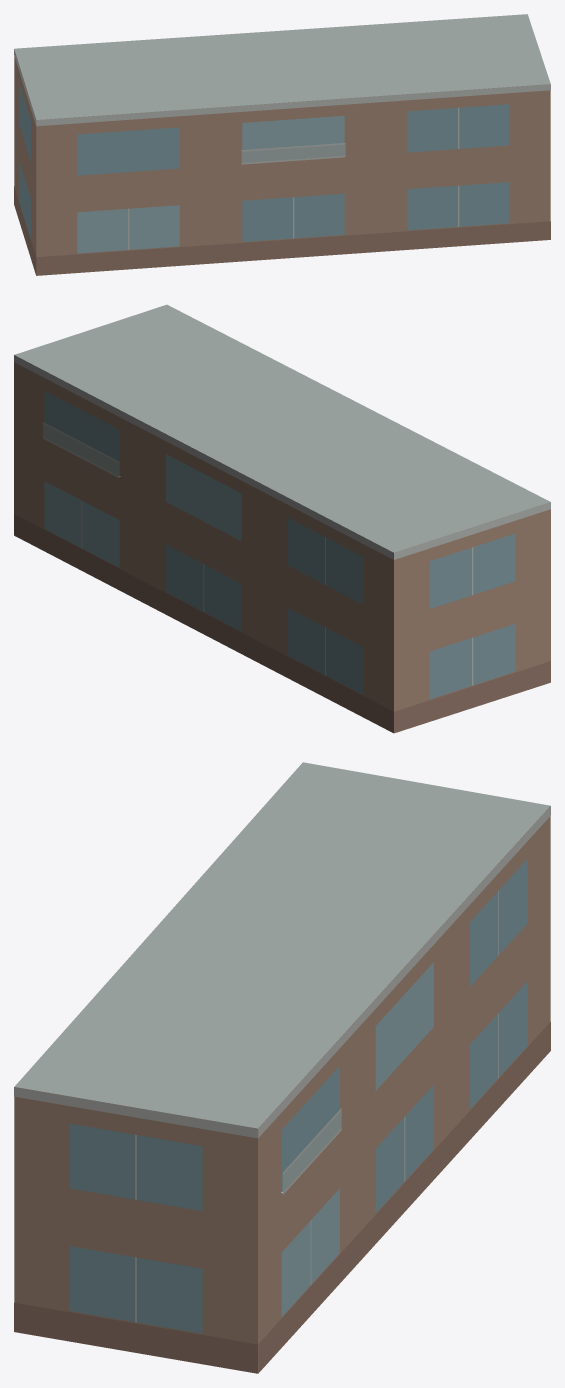
The model's file is survey-upis-32733353.glb.
3 renders of one model, top to bottom at view 1: azimuth 30°, elevation 25°; view 2: azimuth 150°, elevation 25°; view 3: azimuth 270°, elevation 25°, orthographic. The views are drawn at different scales.
Visible parts, largest first — view 1: survey-upis-32733353.tmp; view 2: survey-upis-32733353.tmp; view 3: survey-upis-32733353.tmp.
Part boxes in pixels (left/top/right/bottom): survey-upis-32733353.tmp: left=14, top=14, right=550, bottom=275; survey-upis-32733353.tmp: left=14, top=304, right=550, bottom=733; survey-upis-32733353.tmp: left=14, top=762, right=550, bottom=1373.
Bounding box in the file's own units: 19.57 × 6.1 × 12.11.
